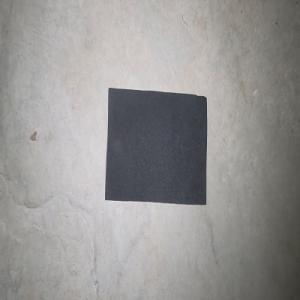PaintChip: (104, 87, 207, 205)
